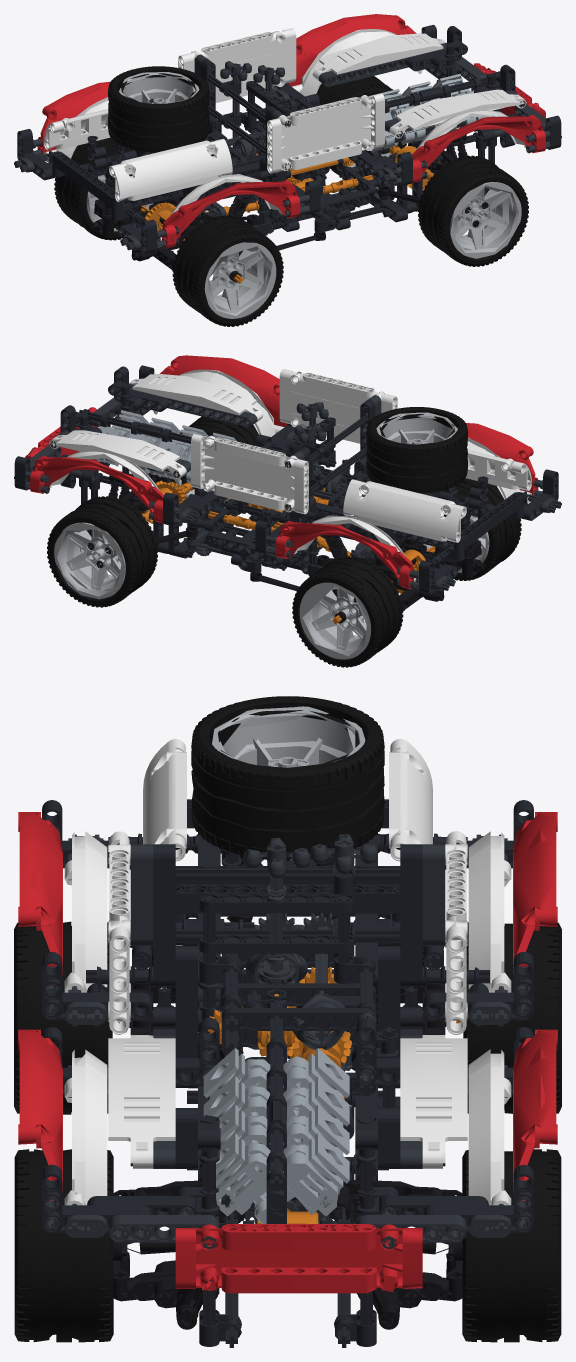
File: truck_game.glb
3 renders of one model, top to bottom at view 1: azimuth 30°, elevation 25°; view 2: azimuth 150°, elevation 25°; view 3: azimuth 270°, elevation 25°, orthographic. The views are drawn at different scales.
Parts seen in each view (by area): view 1: STATIC, W_RR_spin, W_FR_spin, W_RL_spin, REAR_0, W_FL_spin, STEER_2; view 2: STATIC, W_FL_spin, W_RL_spin, W_RR_spin, REAR_0, W_FR_spin, STEER_2; view 3: STATIC, W_FR_spin, W_FL_spin, W_RR_spin, W_RL_spin, REAR_0, FR_2, STEER_2, FL_3, FL_6, FL_2, FR_0 (+2 smaller).
Boxes of the visible parts, bbox=[...] form: STATIC: bbox=[14, 14, 561, 253]; W_RR_spin: bbox=[145, 202, 283, 326]; W_FR_spin: bbox=[418, 155, 528, 266]; W_RL_spin: bbox=[54, 137, 162, 240]; REAR_0: bbox=[90, 196, 242, 270]; W_FL_spin: bbox=[316, 76, 406, 174]; STEER_2: bbox=[220, 61, 251, 149]; STATIC: bbox=[14, 355, 561, 594]; W_FL_spin: bbox=[47, 496, 157, 607]; W_RL_spin: bbox=[292, 556, 403, 667]; W_RR_spin: bbox=[396, 478, 521, 593]; REAR_0: bbox=[332, 536, 485, 610]; W_FR_spin: bbox=[171, 416, 258, 514]; STEER_2: bbox=[294, 423, 326, 496]; STATIC: bbox=[18, 696, 557, 1347]; W_FR_spin: bbox=[14, 1149, 126, 1342]; W_FL_spin: bbox=[449, 1149, 561, 1342]; W_RR_spin: bbox=[14, 921, 302, 1114]; W_RL_spin: bbox=[377, 922, 561, 1113]; REAR_0: bbox=[130, 983, 445, 1059]; FR_2: bbox=[113, 1260, 219, 1308]; STEER_2: bbox=[310, 834, 377, 1070]; FL_3: bbox=[343, 1179, 462, 1216]; FL_6: bbox=[329, 1184, 399, 1321]; FL_2: bbox=[356, 1272, 462, 1308]; FR_0: bbox=[113, 1241, 129, 1299].
Size of the model in its own units: 348 by 142 by 195.
